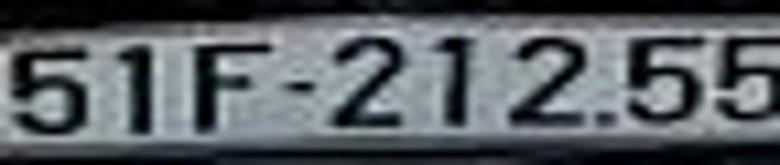-: (280, 74, 325, 104)
.: (593, 104, 621, 134)
1: (109, 41, 164, 142), (434, 30, 474, 132)
2: (512, 36, 583, 128), (331, 31, 397, 121)
5: (9, 44, 97, 138), (624, 32, 702, 126), (716, 34, 780, 128)
F: (183, 38, 275, 137)
